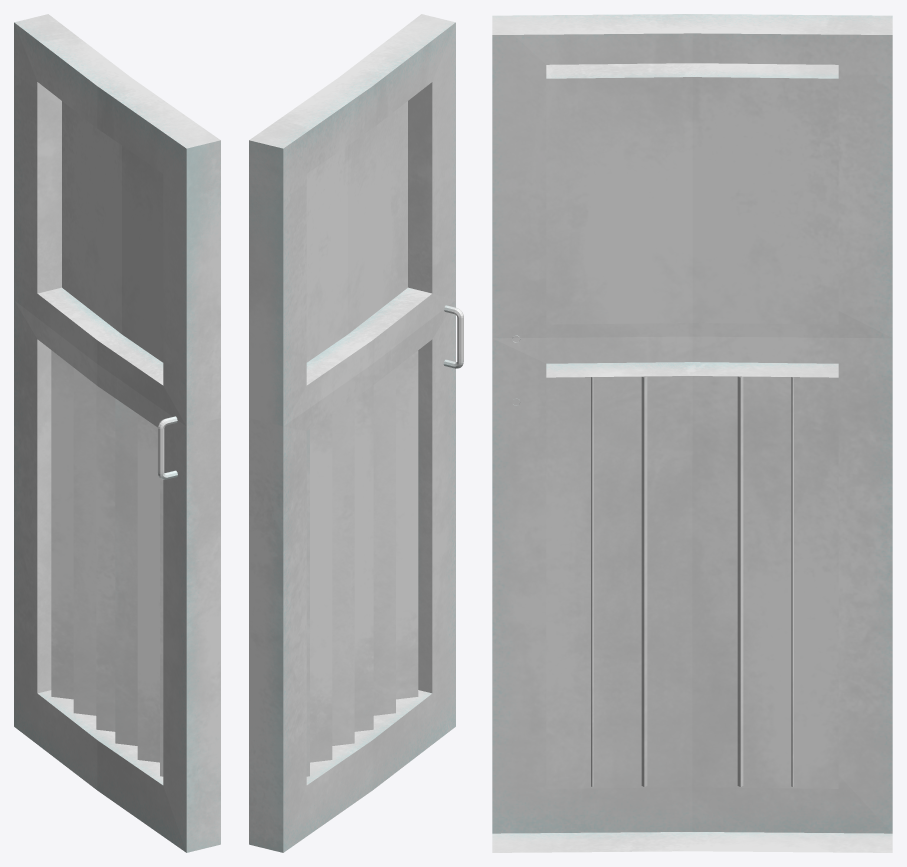
Rendered from puerta.fbx.
3 renders of one model, left to right at view 1: azimuth 30°, elevation 25°; view 2: azimuth 150°, elevation 25°; view 3: azimuth 270°, elevation 25°, orthographic. The views are drawn at different scales.
Visible parts, largest first — view 1: puerta.001; view 2: puerta.001; view 3: puerta.001.
Part boxes in pixels (x1,y1,x2,y2): puerta.001: [14, 14, 220, 852]; puerta.001: [249, 14, 463, 852]; puerta.001: [492, 14, 892, 852].
Size of the model in its own units: 51.8 by 665 by 295.
